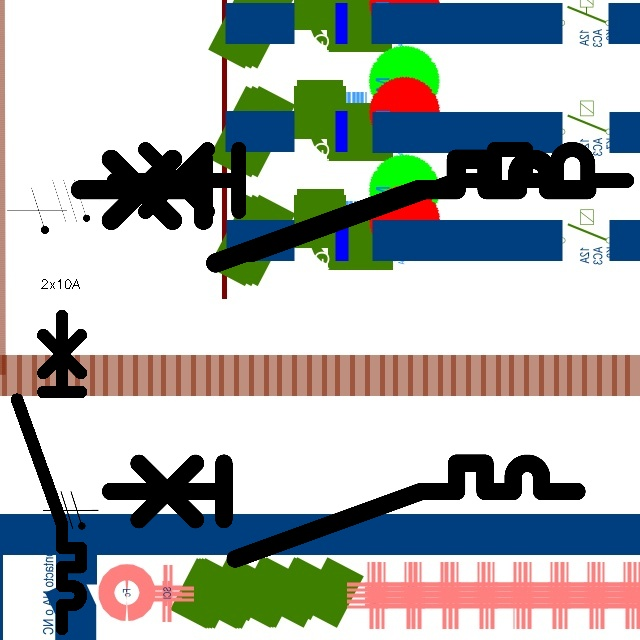interruptor_termomagnetico: (100, 136, 639, 268), (67, 146, 600, 276), (98, 451, 589, 571), (9, 308, 89, 637)
